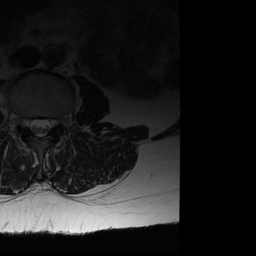CCS_normal: (35, 110, 43, 144)
LFS_normal: (51, 110, 60, 134)
LLS_normal: (43, 110, 51, 139)
RFS_normal: (20, 107, 27, 135)
RLS_normal: (27, 110, 35, 139)
